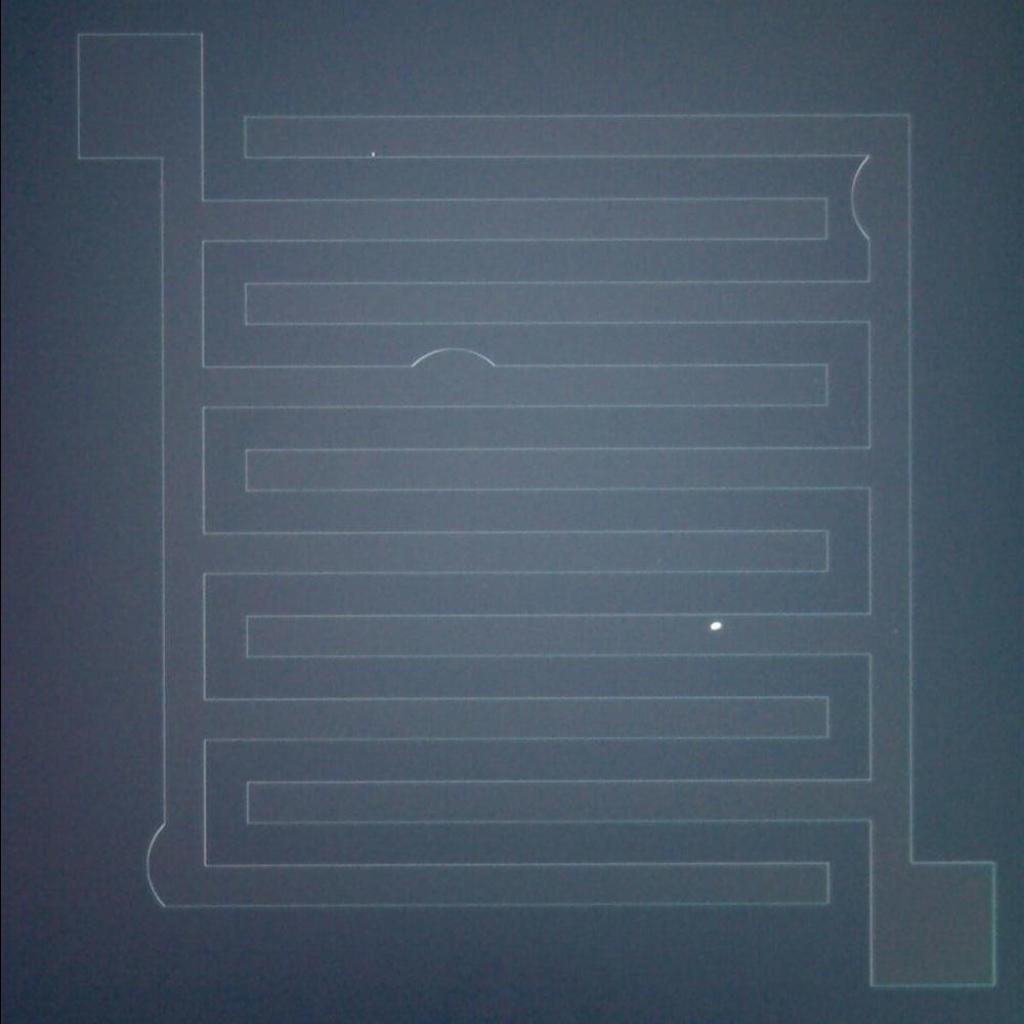curve circuit: (394, 340, 518, 381), (842, 136, 882, 252), (134, 805, 178, 909)
spot: (700, 614, 727, 639)
